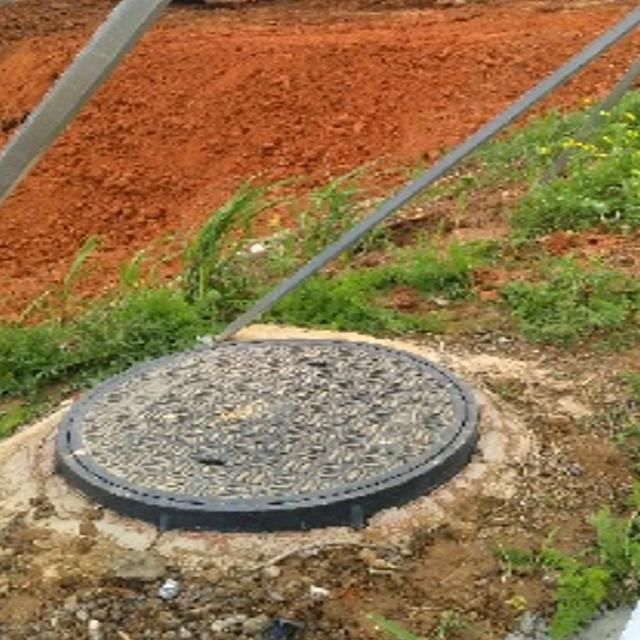good: (60, 337, 483, 524)
